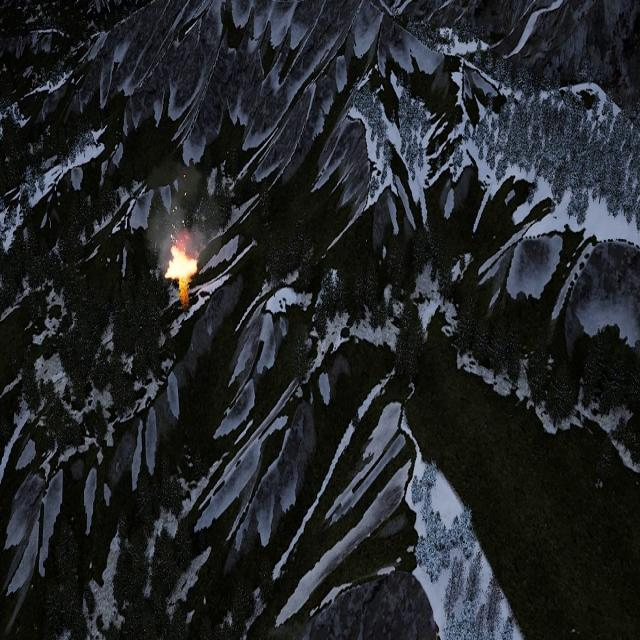fire: (167, 248, 199, 282)
smoke: (146, 159, 215, 282)
